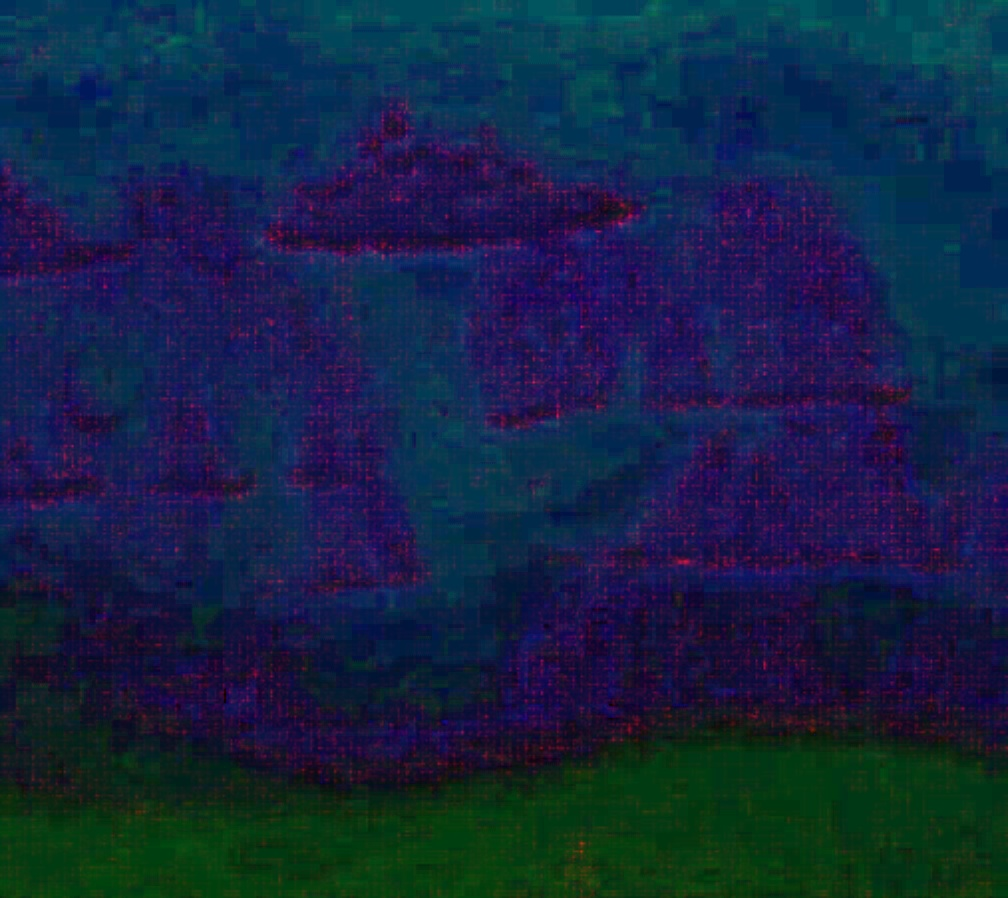rip_current: (248, 204, 655, 706)
